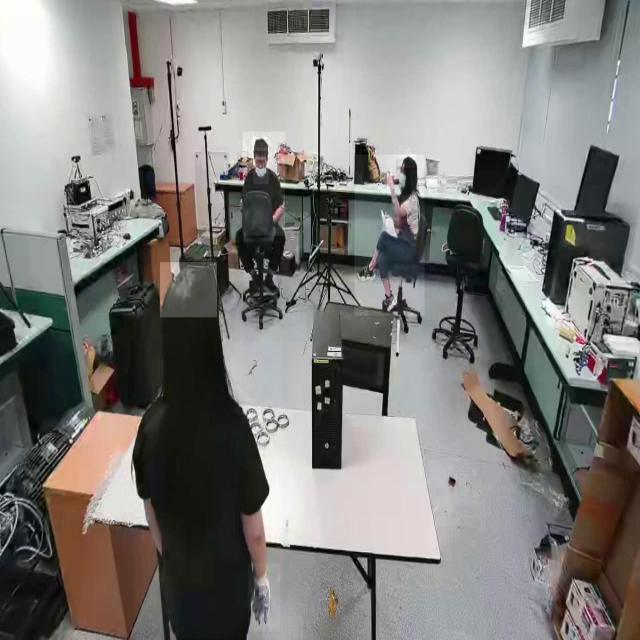face_mask: (396, 157, 410, 195), (254, 148, 268, 184)
hand_glove: (248, 563, 280, 633)
hand_noglove: (387, 173, 394, 190)
head_nohelmet: (160, 262, 218, 318), (252, 137, 268, 152), (400, 155, 417, 169)
person: (134, 266, 283, 639), (355, 154, 425, 316), (242, 132, 286, 236)
shoes: (357, 258, 378, 286), (260, 269, 280, 295)
